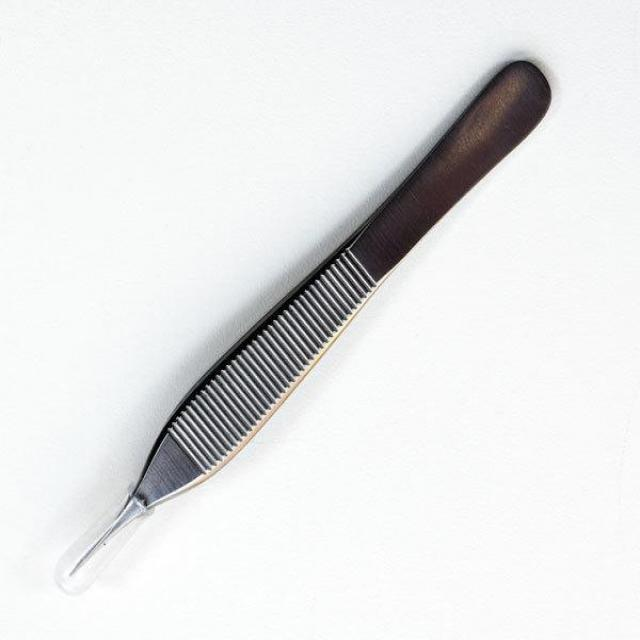Forceps: (63, 53, 555, 588)
